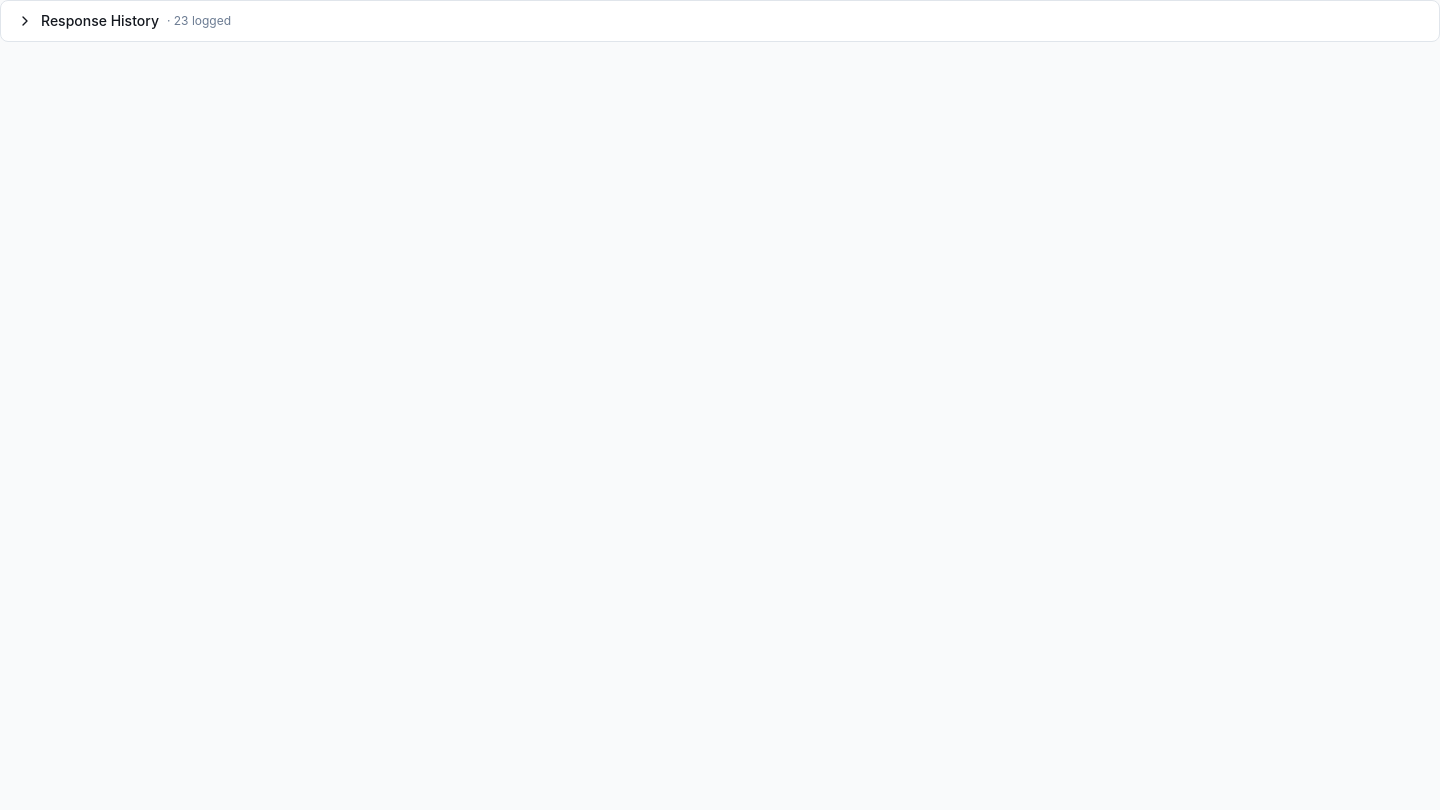
Test: ResponseHistoryPanel — table, filters and paging › searches by area and clears everything at once
Click the button "Response History · 23 logged": {"x": 100, "y": 20} x1=1 y1=1 x2=1439 y2=41
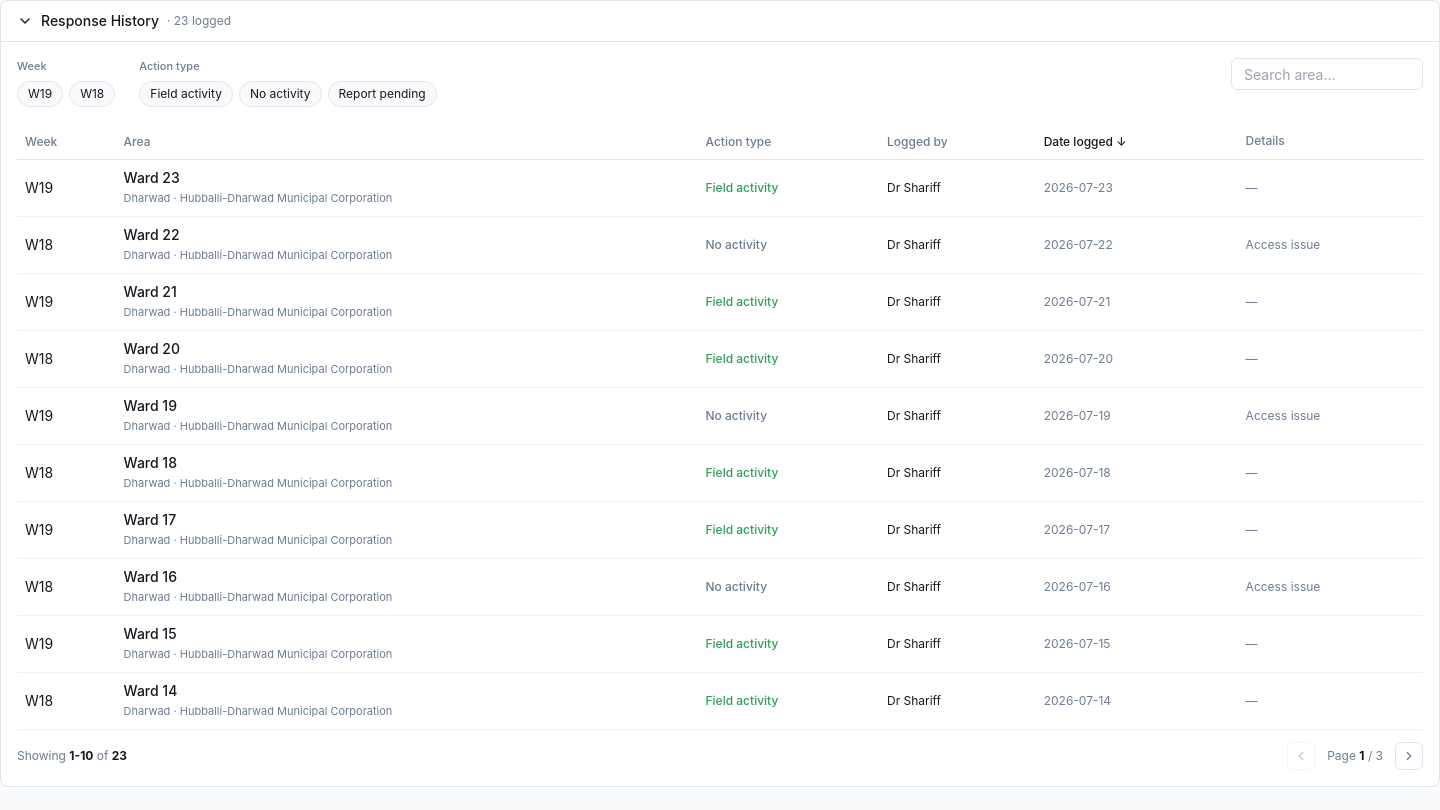
In the field named "Search areas": {"x": 1327, "y": 74} x1=1231 y1=58 x2=1423 y2=90, type "Ward 07"
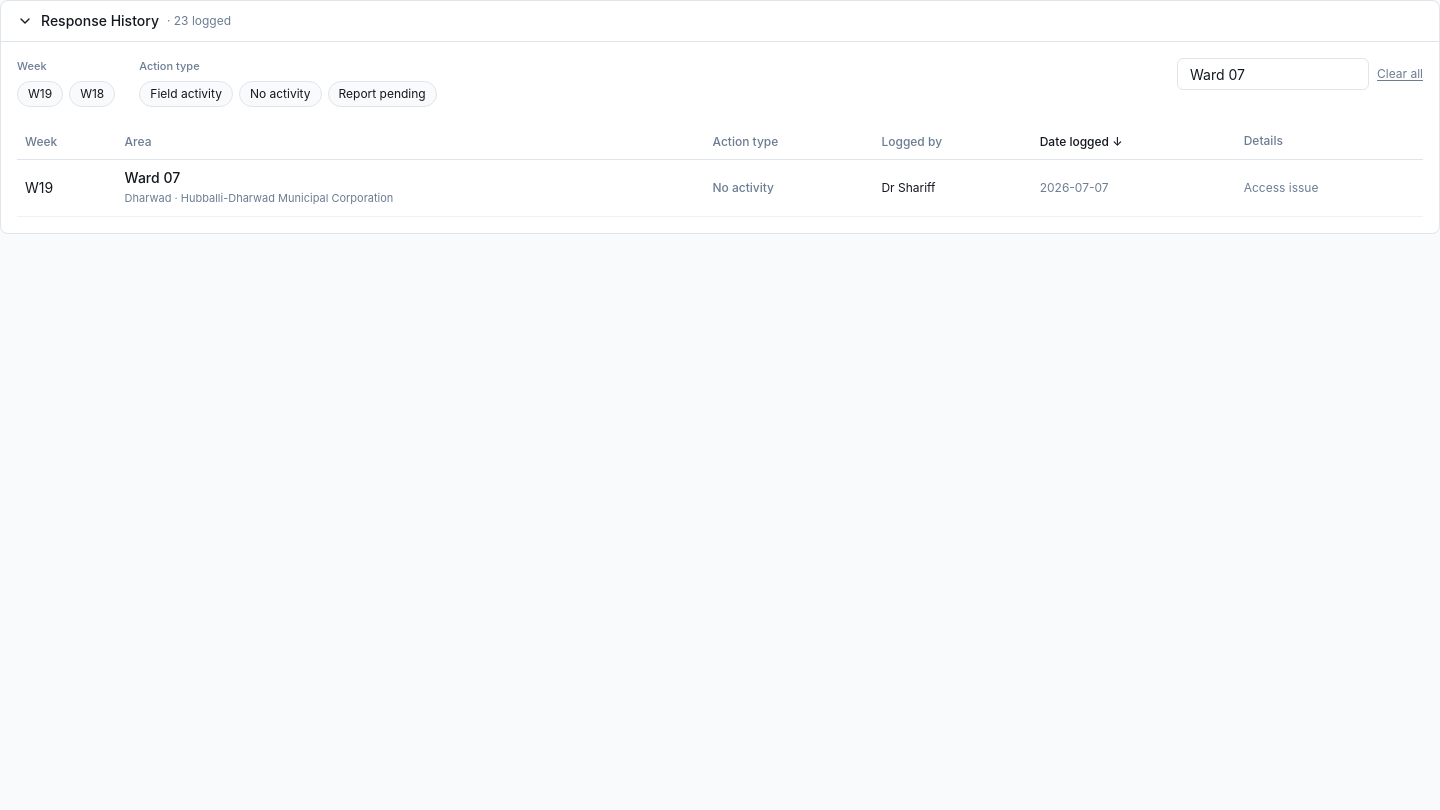
Click the button "Clear all": {"x": 1400, "y": 74} x1=1377 y1=66 x2=1423 y2=82
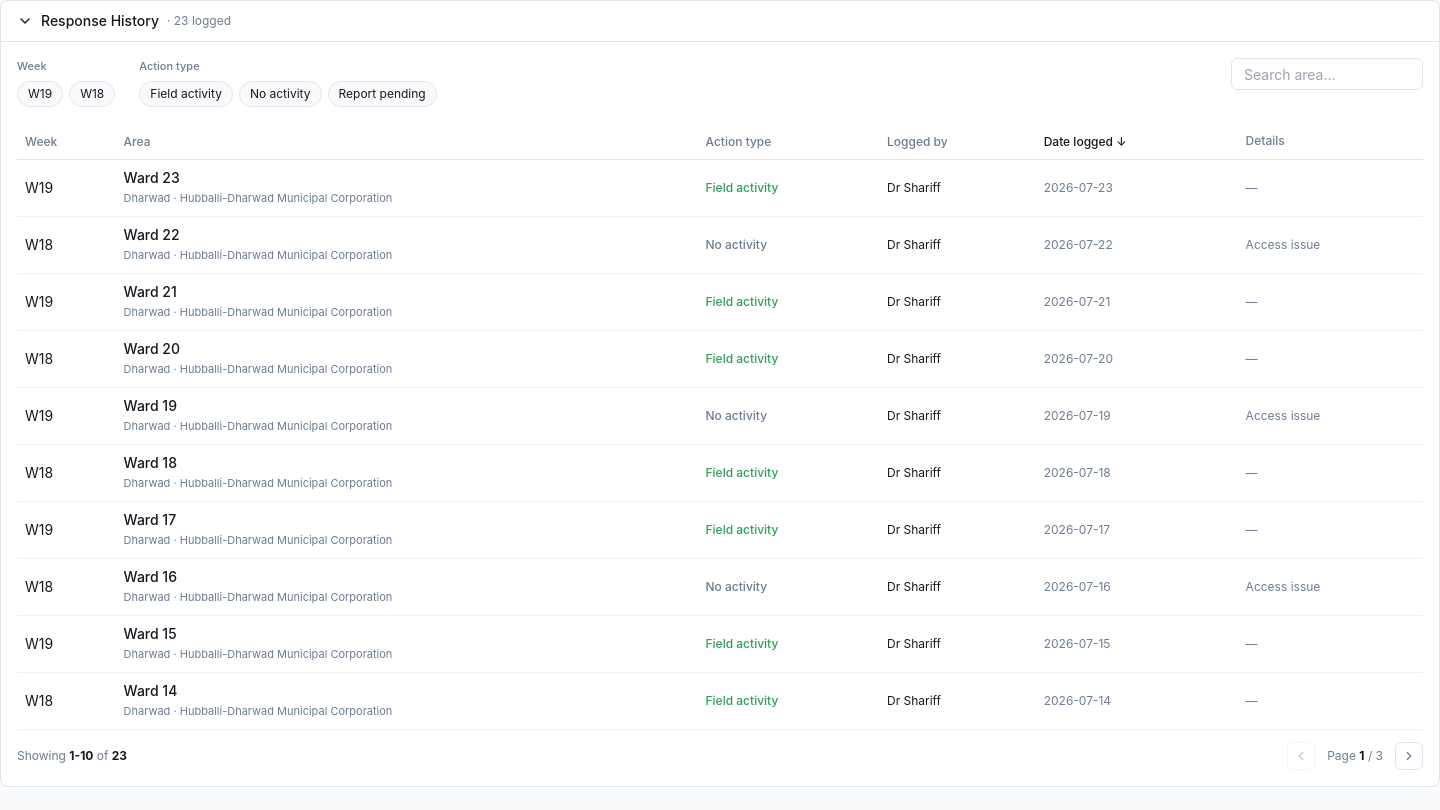
Check: the text "Showing 1-10 of 23" is shown, box x1=17 y1=748 x2=127 y2=764
